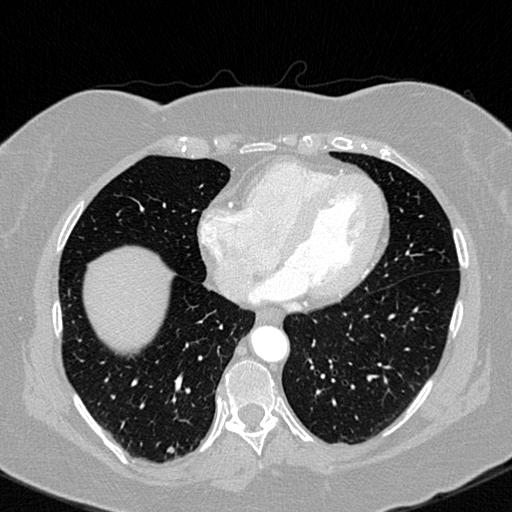nodule: (165, 445, 176, 456)
